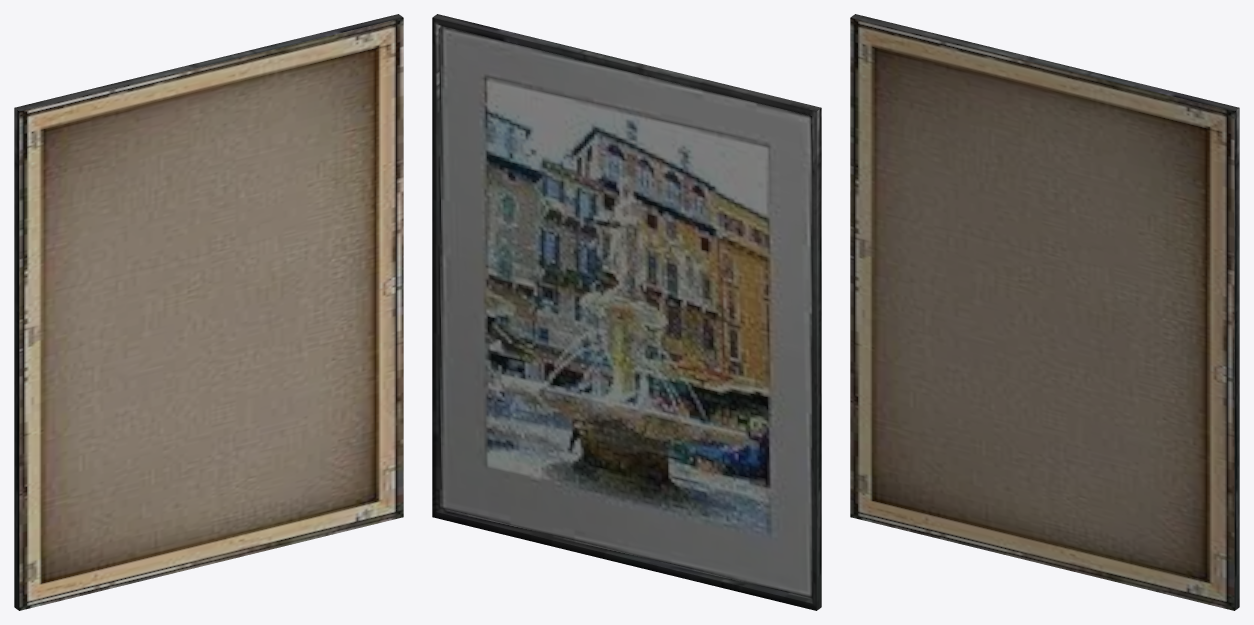
File: offpaintingg.glb
3 renders of one model, left to right at view 1: azimuth 30°, elevation 25°; view 2: azimuth 150°, elevation 25°; view 3: azimuth 330°, elevation 25°, orthographic.
Visible parts, largest first — view 1: 0_Poster_backing, 1_offpaintingg; view 2: 1_offpaintingg; view 3: 0_Poster_backing, 1_offpaintingg.
Boxes of the visible parts, box(x1,y1,x2,y2) form: 0_Poster_backing: box(19, 17, 403, 610); 1_offpaintingg: box(14, 14, 402, 610); 1_offpaintingg: box(432, 14, 821, 610); 0_Poster_backing: box(850, 17, 1234, 610); 1_offpaintingg: box(851, 14, 1239, 610).
Bounding box in the file's own units: 0.7847 × 0.9744 × 0.0178.
2 materials, 2 textured.
